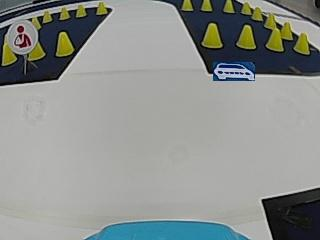cone: (201, 22, 223, 49), (237, 25, 257, 49), (56, 32, 74, 56), (266, 27, 283, 51), (1, 41, 16, 65), (294, 32, 309, 54), (28, 41, 45, 60), (264, 13, 276, 28), (95, 2, 107, 15), (75, 4, 87, 17), (59, 6, 70, 20), (223, 1, 235, 13), (252, 6, 262, 20), (200, 0, 212, 11), (181, 0, 193, 11), (42, 10, 53, 22), (241, 2, 251, 14)
patient: (8, 20, 37, 50)
